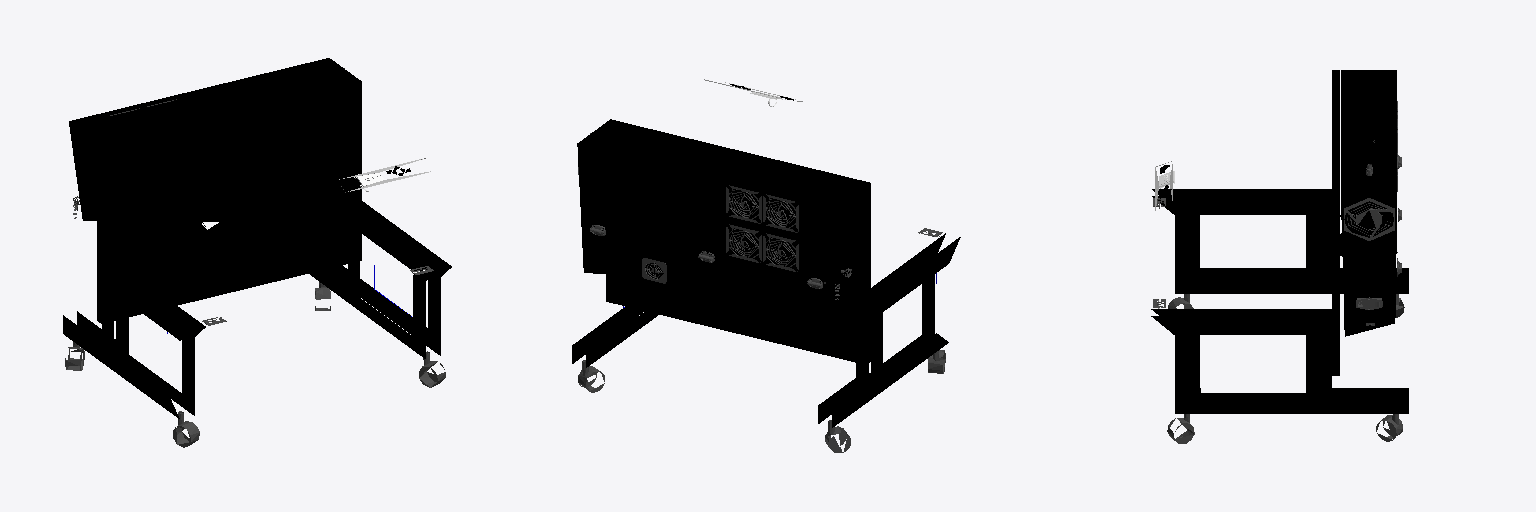
The model's file is plsSolid.obj.
3 views of the same model, side by side, from view 1: azimuth 30°, elevation 25°; view 2: azimuth 150°, elevation 25°; view 3: azimuth 270°, elevation 25° (orthographic).
Visible parts, largest first — view 1: object_11, object_14, object_23, \; view 2: object_14, object_11, \, object_18, object_19, object_17, object_16; view 3: object_11, object_14, \, object_15.
Part boxes in pixels (left/top/right/bottom): object_11: left=63, top=78, right=451, bottom=418; object_14: left=69, top=58, right=355, bottom=221; object_23: left=173, top=411, right=199, bottom=447; \: left=73, top=173, right=433, bottom=325; object_14: left=577, top=123, right=865, bottom=285; object_11: left=572, top=119, right=960, bottom=427; \: left=590, top=92, right=942, bottom=299; object_18: left=726, top=224, right=761, bottom=262; object_19: left=763, top=233, right=798, bottom=271; object_17: left=726, top=185, right=761, bottom=223; object_16: left=763, top=194, right=798, bottom=232; object_11: left=1151, top=70, right=1408, bottom=413; object_14: left=1341, top=70, right=1396, bottom=336; \: left=1153, top=140, right=1401, bottom=309; object_15: left=1344, top=198, right=1394, bottom=240.
Size of the model in its own units: 46.28 by 39.86 by 37.7.